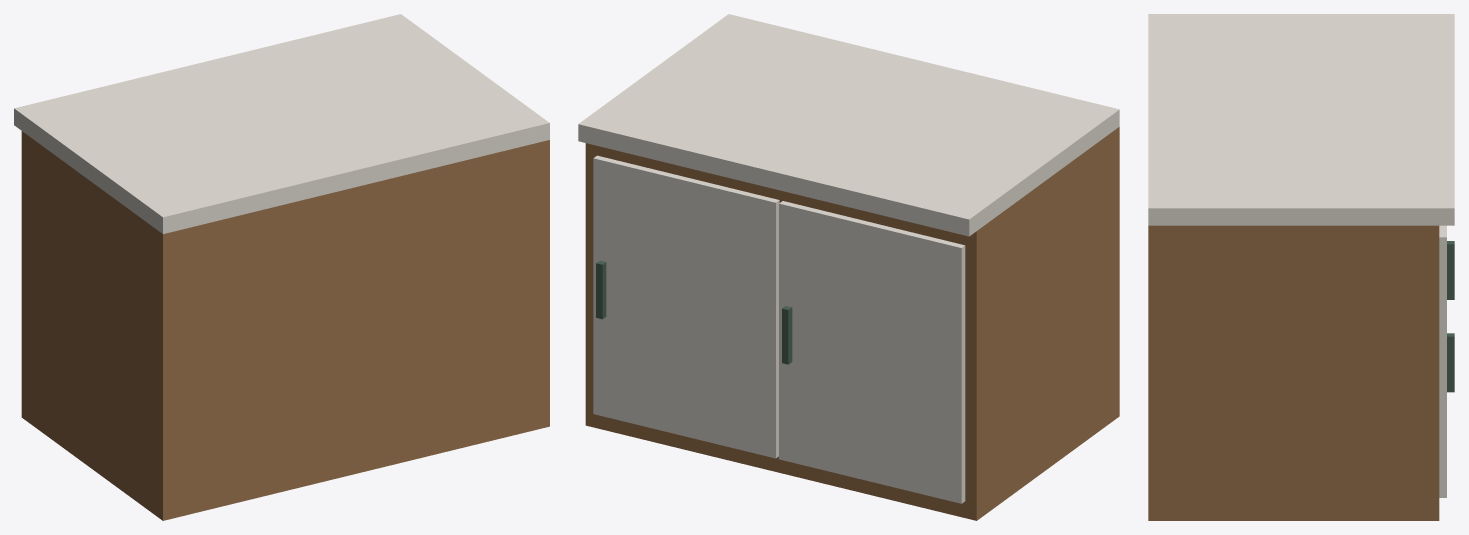
3 renders of one model, left to right at view 1: azimuth 30°, elevation 25°; view 2: azimuth 150°, elevation 25°; view 3: azimuth 270°, elevation 25°, orthographic. The views are drawn at different scales.
Visible parts, largest first — view 1: body, counter; view 2: counter, body, door-0, door-1, handle-0, handle-1; view 3: body, counter, door-1, handle-1, handle-0.
Part boxes in pixels (bbox=[...]): body: bbox=[21, 131, 549, 520]; counter: bbox=[14, 14, 549, 233]; counter: bbox=[578, 14, 1119, 236]; body: bbox=[585, 127, 1119, 520]; door-0: bbox=[779, 201, 965, 503]; door-1: bbox=[593, 155, 779, 458]; handle-0: bbox=[782, 306, 792, 364]; handle-1: bbox=[596, 260, 606, 319]; body: bbox=[1148, 225, 1439, 520]; counter: bbox=[1148, 14, 1454, 225]; door-1: bbox=[1439, 225, 1446, 497]; handle-1: bbox=[1447, 333, 1454, 392]; handle-0: bbox=[1447, 241, 1454, 299].
Bounding box in the file's own units: 1.2 × 0.9 × 0.8.
